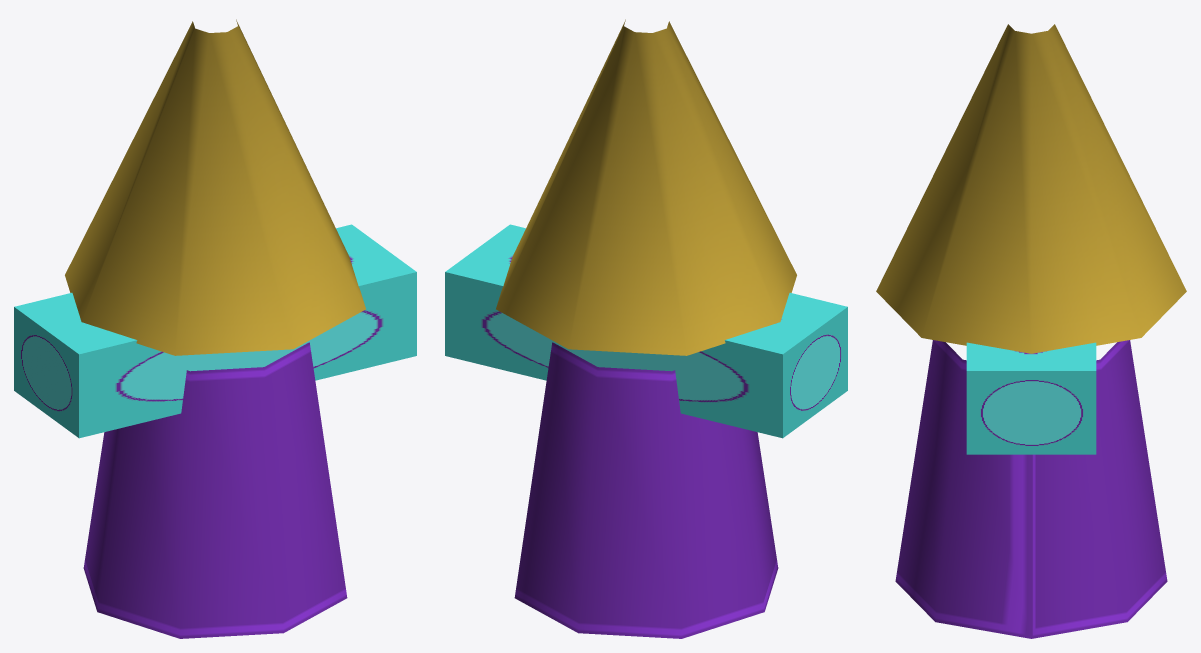
The model's file is ITEM_TRUTH_LENS.glb.
3 renders of one model, left to right at view 1: azimuth 30°, elevation 25°; view 2: azimuth 150°, elevation 25°; view 3: azimuth 270°, elevation 25°, orthographic.
Visible parts, largest first — view 1: ITEM_TRUTH_LENS; view 2: ITEM_TRUTH_LENS; view 3: ITEM_TRUTH_LENS.
Boxes of the visible parts, x1,y1,x2,y2 form: ITEM_TRUTH_LENS: (14,19,416,638); ITEM_TRUTH_LENS: (445,19,847,638); ITEM_TRUTH_LENS: (876,24,1186,638).
Size of the model in its own units: 0.24 by 0.38 by 0.192.
Materials: 1 (1 with a texture image).
